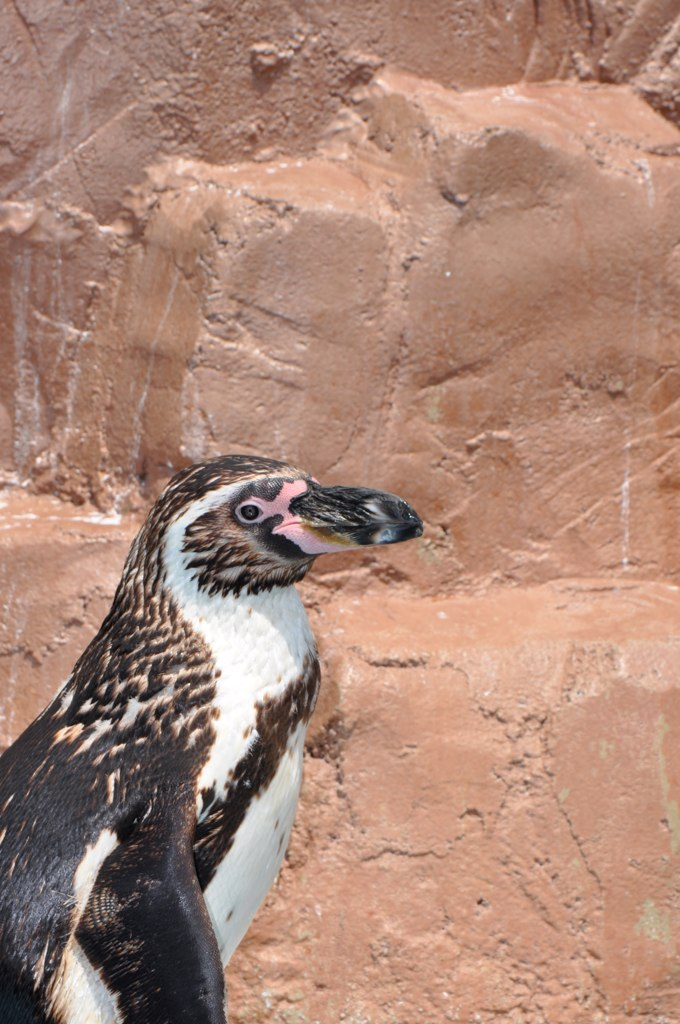penguin: (7, 455, 423, 1024)
